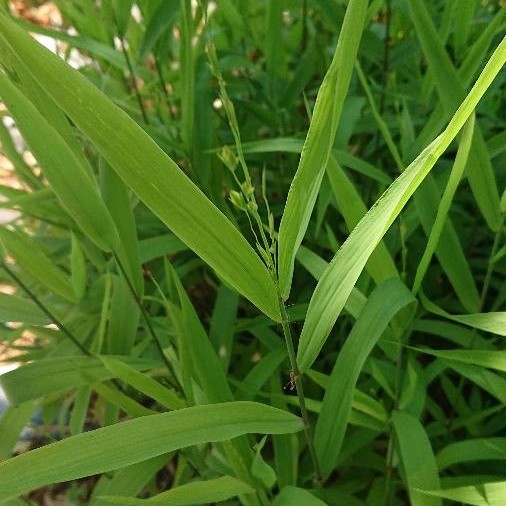obstacle: (8, 15, 476, 479)
